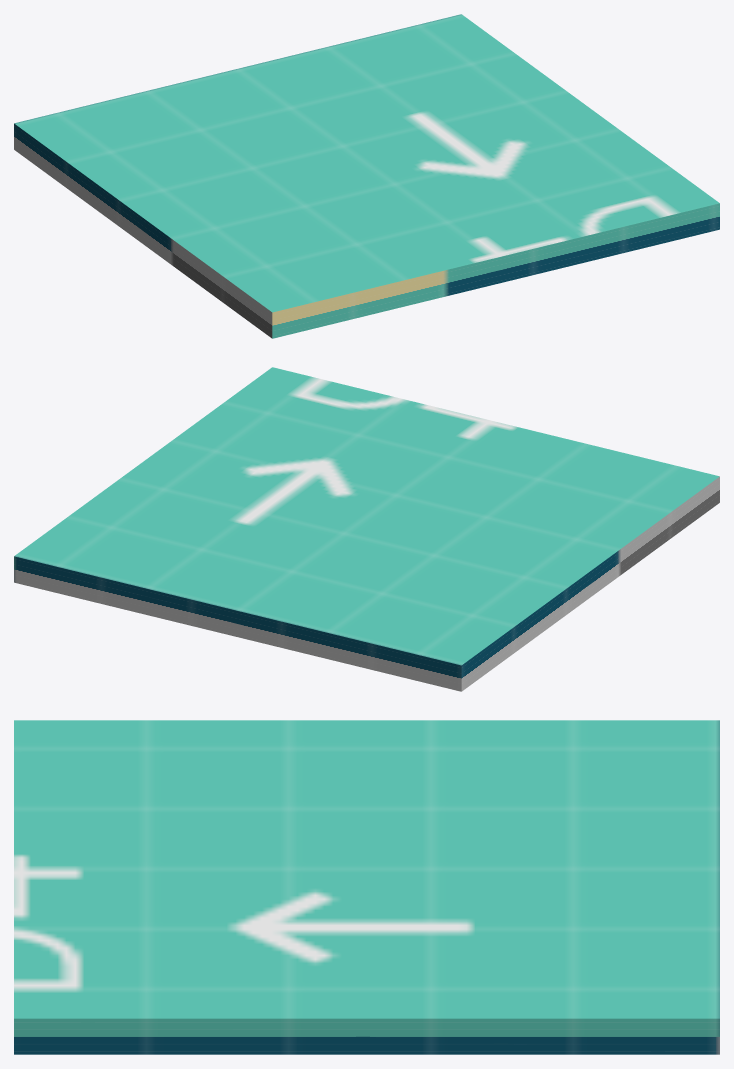
Rendered from mousepad.glb.
3 renders of one model, top to bottom at view 1: azimuth 30°, elevation 25°; view 2: azimuth 150°, elevation 25°; view 3: azimuth 270°, elevation 25°, orthographic. The views are drawn at different scales.
Parts seen in each view (by area): view 1: col_mousepad; view 2: col_mousepad; view 3: col_mousepad.
Part boxes in pixels (left/top/right/bottom): col_mousepad: left=14, top=14, right=719, bottom=338; col_mousepad: left=14, top=367, right=719, bottom=691; col_mousepad: left=14, top=720, right=719, bottom=1054.
Size of the model in its own units: 0.3253 by 0.0183 by 0.3253.
1 material, 1 textured.
